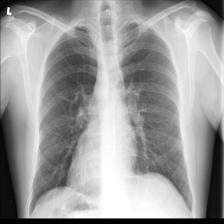normal: (26, 15, 199, 218)
